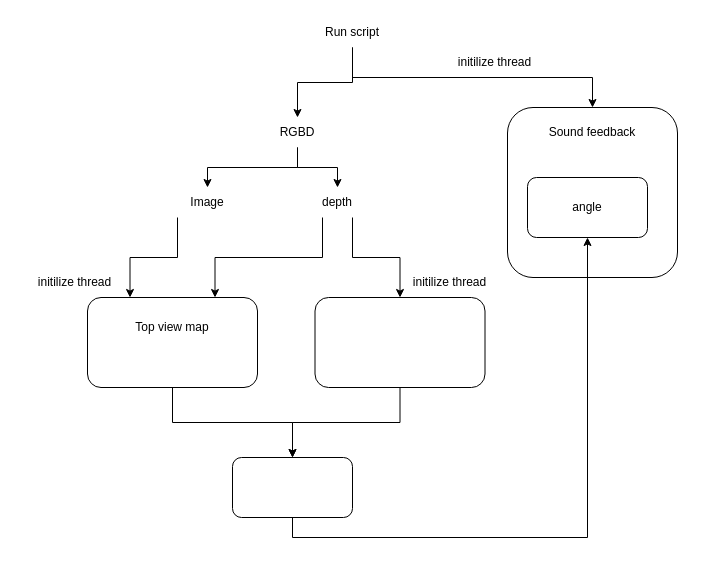
This 704x563 diagram has some shape labels left out. The box of each missing label's shape, as (x1, y1, x2, y2) in pixels:
Density based by indexs: (314, 296, 485, 388)
obstacle overlay: (232, 456, 352, 518)
